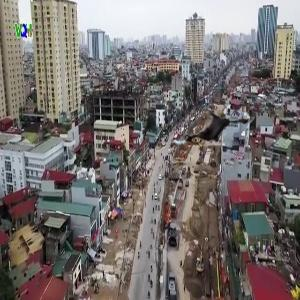drone: (171, 86, 258, 173)
